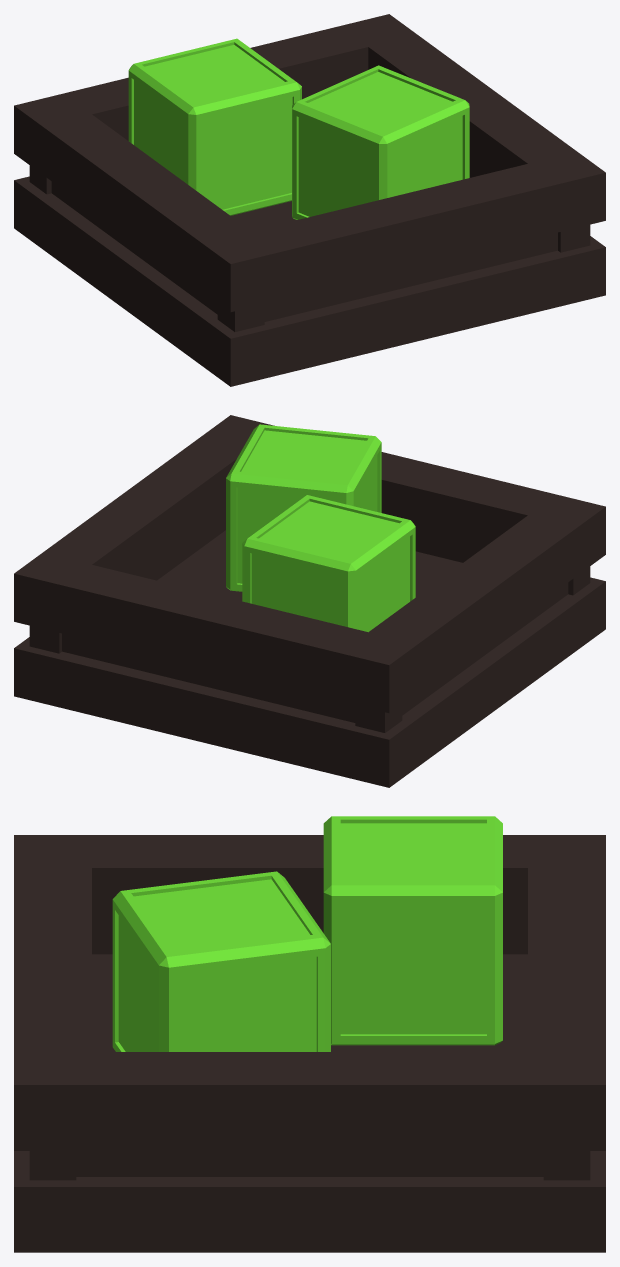
File: CajaDadosv01.fbx
3 renders of one model, top to bottom at view 1: azimuth 30°, elevation 25°; view 2: azimuth 150°, elevation 25°; view 3: azimuth 270°, elevation 25°, orthographic. The views are drawn at different scales.
Parts seen in each view (by area): view 1: Cube, polySurface2; view 2: Cube, polySurface2; view 3: Cube, polySurface2.
Boxes of the visible parts, x1,y1,x2,y2 form: Cube: [14, 14, 605, 386]; polySurface2: [128, 38, 469, 219]; Cube: [14, 415, 605, 787]; polySurface2: [226, 424, 415, 632]; Cube: [14, 835, 605, 1252]; polySurface2: [112, 816, 502, 1051].
Size of the model in its own units: 0.9777 by 0.4357 by 0.9777.
